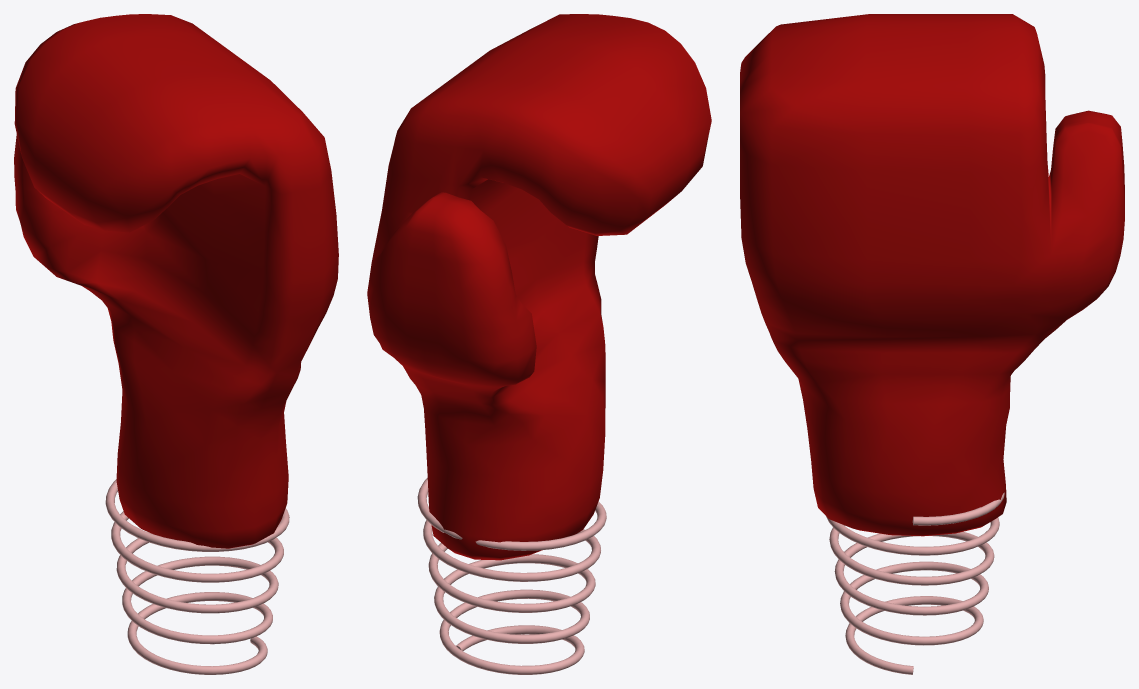
Rendered from SpringBoxing.FBX.
The picture shows the model from 3 angles, left to right: view 1: azimuth 30°, elevation 25°; view 2: azimuth 150°, elevation 25°; view 3: azimuth 270°, elevation 25°; orthographic projection. The views are drawn at different scales.
Visible parts, largest first — view 1: BoxingGlove, Spring; view 2: BoxingGlove, Spring; view 3: BoxingGlove, Spring.
Boxes of the visible parts, box(x1,y1,x2,y2) form: BoxingGlove: box(14, 14, 338, 548); Spring: box(105, 479, 289, 674); BoxingGlove: box(367, 14, 711, 560); Spring: box(417, 478, 606, 674); BoxingGlove: box(740, 14, 1124, 536); Spring: box(826, 492, 1004, 674).
Size of the model in its own units: 44.38 by 108 by 63.36.
